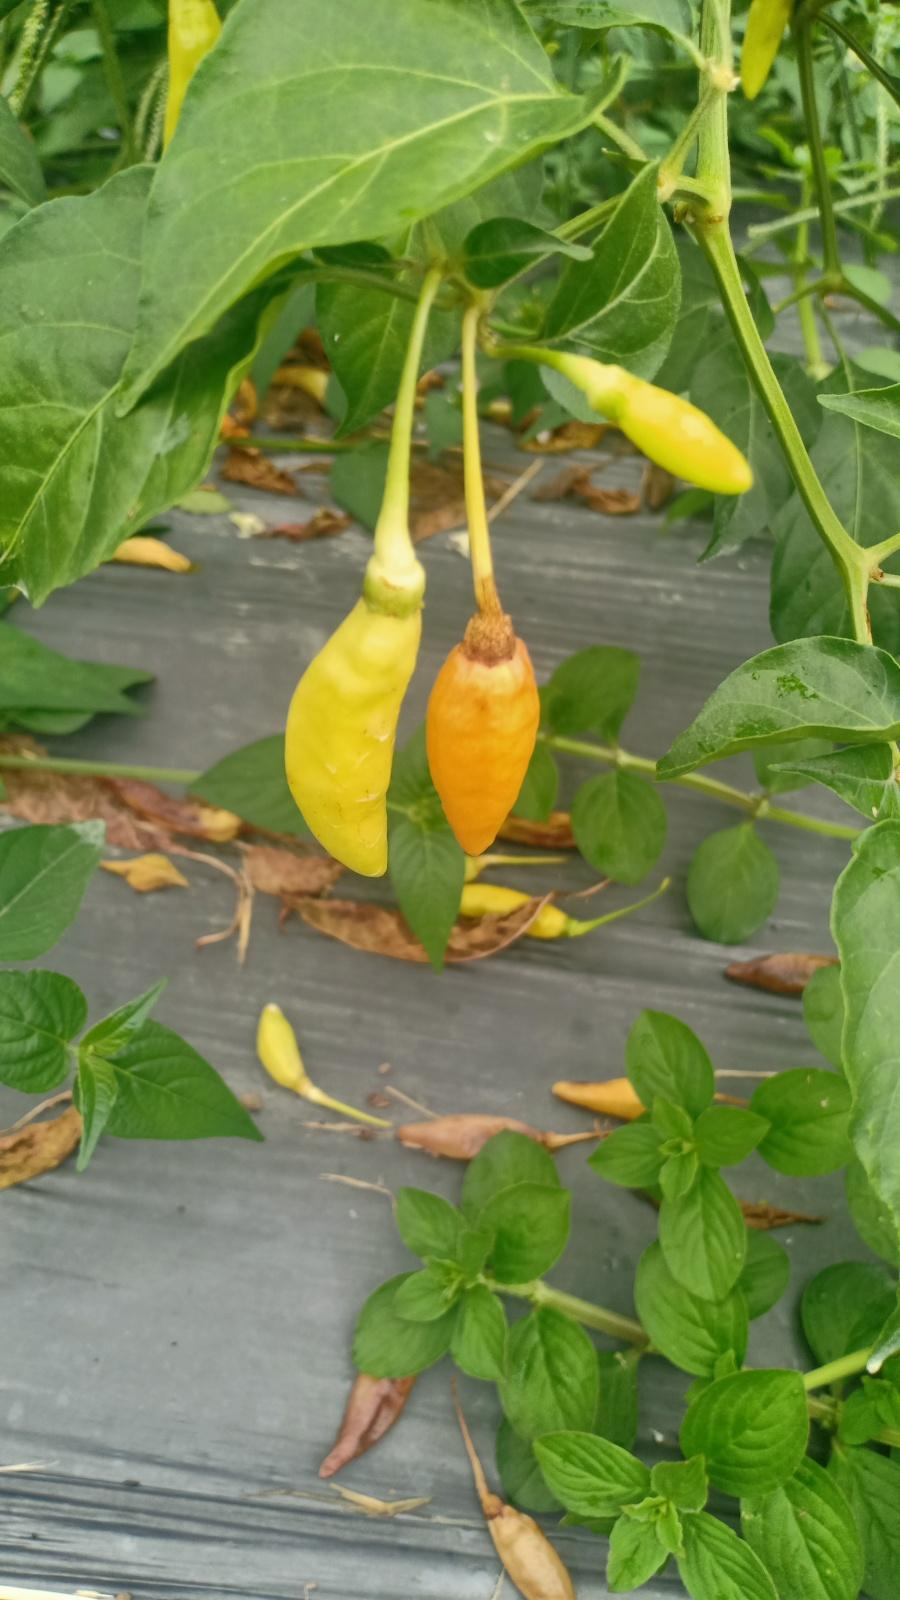cabai_normal: (278, 609, 422, 879), (616, 376, 747, 495)
lalat_buah: (430, 644, 538, 852)
